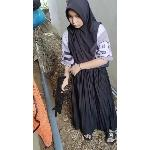Senapan: (50, 70, 76, 120)
